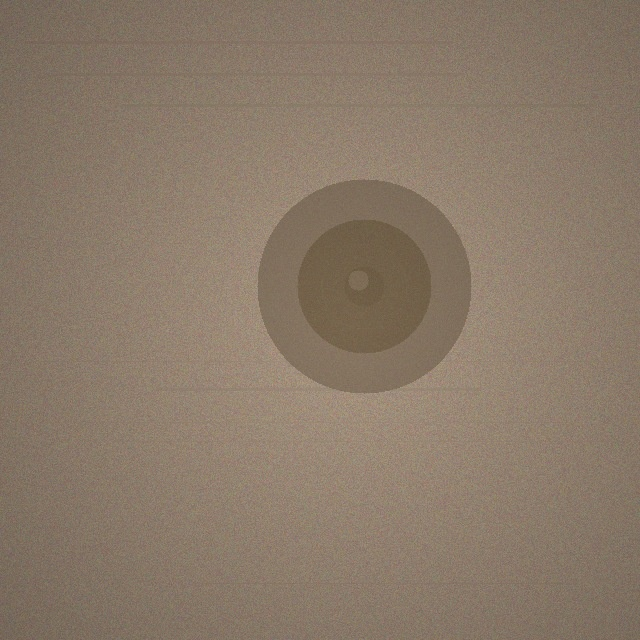good: (257, 179, 471, 393)
